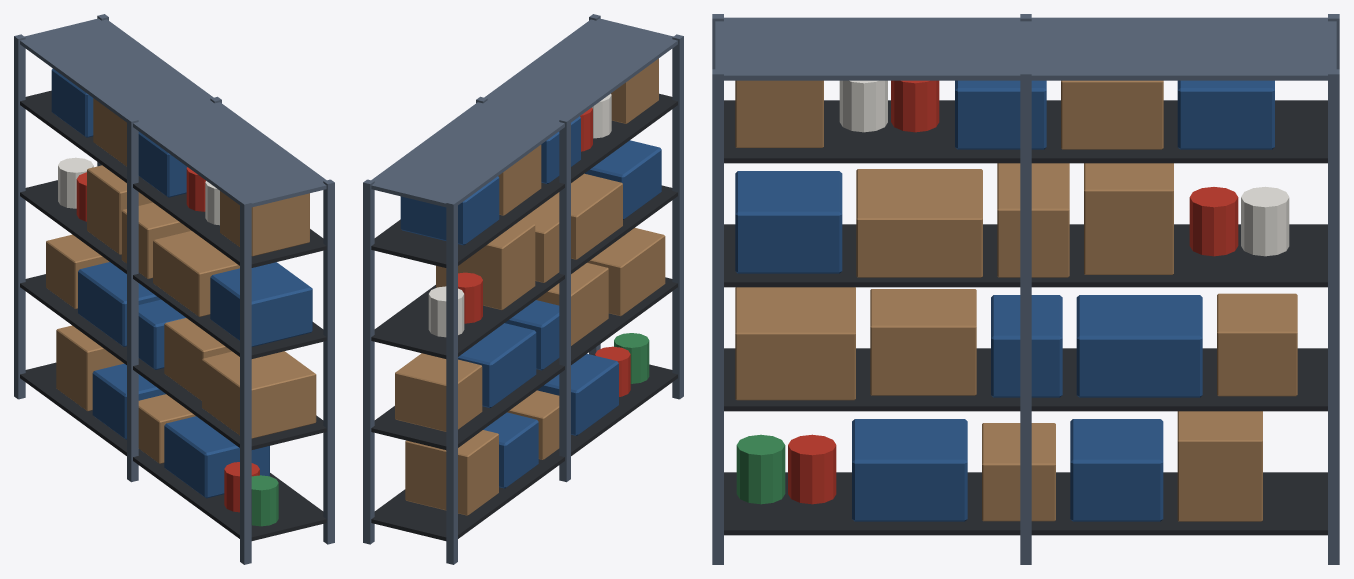
The model's file is storage_shelf.glb.
The picture shows the model from 3 angles, left to right: view 1: azimuth 30°, elevation 25°; view 2: azimuth 150°, elevation 25°; view 3: azimuth 270°, elevation 25°; orthographic projection. The views are drawn at different scales.
Parts seen in each view (by area): view 1: storage_shelf; view 2: storage_shelf; view 3: storage_shelf.
Part boxes in pixels (<box>): storage_shelf: <box>14,14,334,564</box>; storage_shelf: <box>363,14,683,564</box>; storage_shelf: <box>712,14,1339,564</box>.
Bounding box in the file's own units: 0.5 × 1.9 × 2.2.
